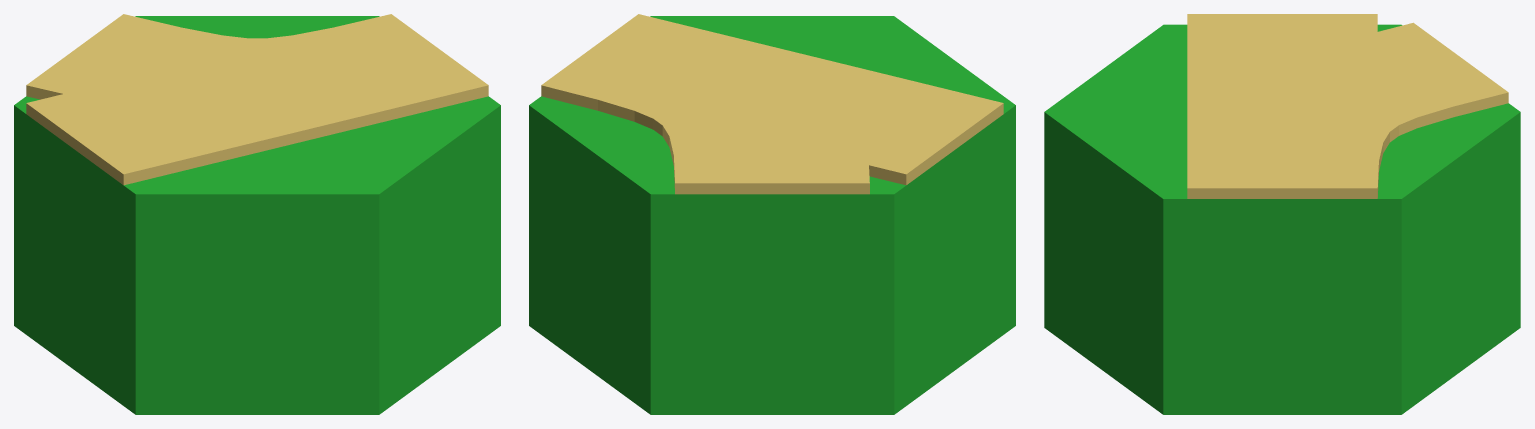
The model's file is module-corner_land_path_right.glb.
3 renders of one model, left to right at view 1: azimuth 30°, elevation 25°; view 2: azimuth 150°, elevation 25°; view 3: azimuth 270°, elevation 25°, orthographic. The views are drawn at different scales.
Visible parts, largest first — view 1: module-corner_land_path_right; view 2: module-corner_land_path_right; view 3: module-corner_land_path_right.
Part boxes in pixels (x1,y1,x2,y2): module-corner_land_path_right: [14, 14, 500, 414]; module-corner_land_path_right: [529, 14, 1015, 414]; module-corner_land_path_right: [1044, 14, 1520, 414].
Size of the model in its own units: 0.866 by 0.525 by 1.
